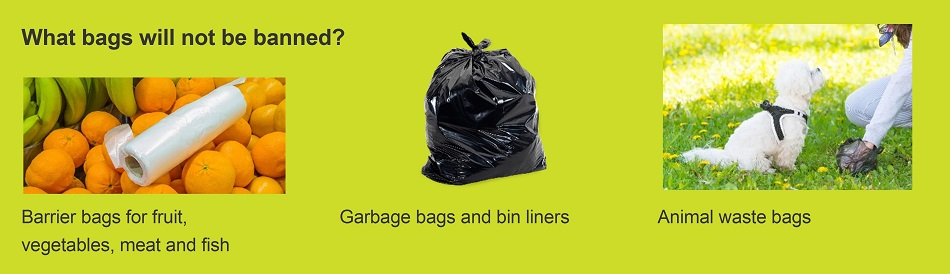plastic_bagwdw: (374, 9, 592, 204)
